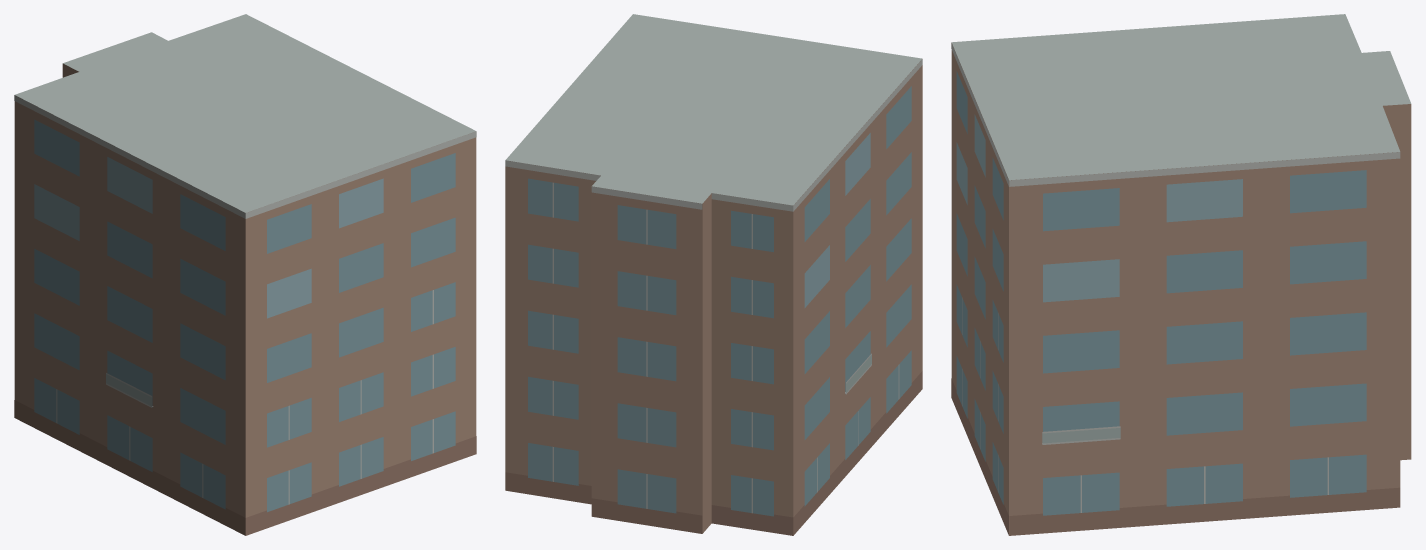
Rendered from survey-upis-32738792.glb.
3 views of the same model, side by side, from view 1: azimuth 30°, elevation 25°; view 2: azimuth 150°, elevation 25°; view 3: azimuth 270°, elevation 25° (orthographic). The views are drawn at different scales.
Visible parts, largest first — view 1: survey-upis-32738792.tmp; view 2: survey-upis-32738792.tmp; view 3: survey-upis-32738792.tmp.
Part boxes in pixels (left/top/right/bottom): survey-upis-32738792.tmp: left=14, top=14, right=476, bottom=535; survey-upis-32738792.tmp: left=505, top=14, right=922, bottom=535; survey-upis-32738792.tmp: left=951, top=14, right=1411, bottom=535.
Bounding box in the file's own units: 13.09 × 13.05 × 15.31.
